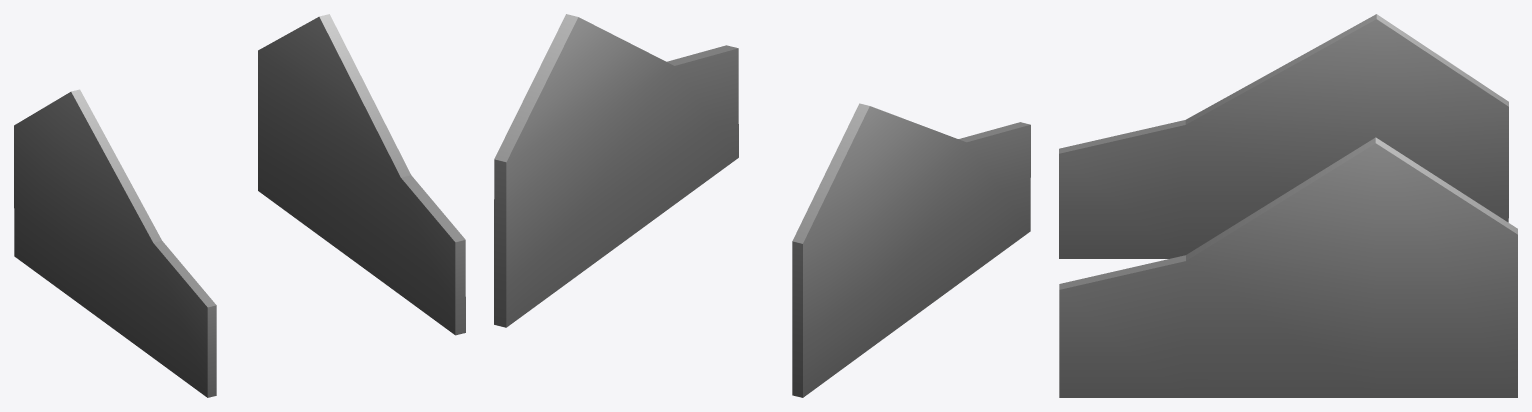
Rendered from NPCRumah2Walls.fbx.
3 renders of one model, left to right at view 1: azimuth 30°, elevation 25°; view 2: azimuth 150°, elevation 25°; view 3: azimuth 270°, elevation 25°, orthographic. The views are drawn at different scales.
Visible parts, largest first — view 1: RoadNPC2_LOD0.002, RoadNPC2_LOD0.003; view 2: RoadNPC2_LOD0.002, RoadNPC2_LOD0.003; view 3: RoadNPC2_LOD0.002, RoadNPC2_LOD0.003.
Part boxes in pixels (x1=…): RoadNPC2_LOD0.002: x1=258, y1=14, x2=465, y2=335; RoadNPC2_LOD0.003: x1=14, y1=89, x2=216, y2=397; RoadNPC2_LOD0.002: x1=494, y1=14, x2=738, y2=327; RoadNPC2_LOD0.003: x1=792, y1=103, x2=1030, y2=397; RoadNPC2_LOD0.002: x1=1059, y1=137, x2=1517, y2=397; RoadNPC2_LOD0.003: x1=1059, y1=14, x2=1508, y2=258.
Size of the model in its own units: 1854 by 1517 by 2455.
